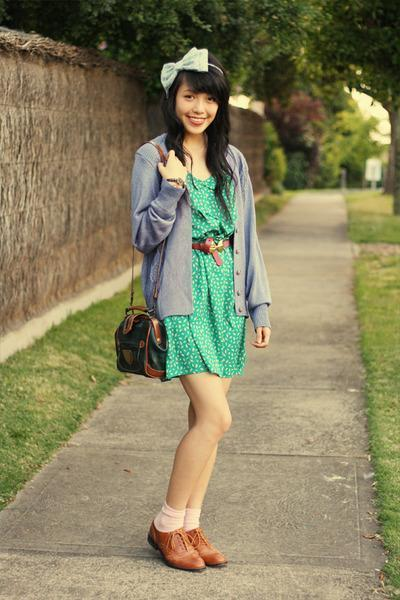bag: (115, 308, 172, 381)
dress: (164, 180, 244, 378)
jacket: (130, 133, 284, 334)
shoe: (147, 520, 227, 572)
